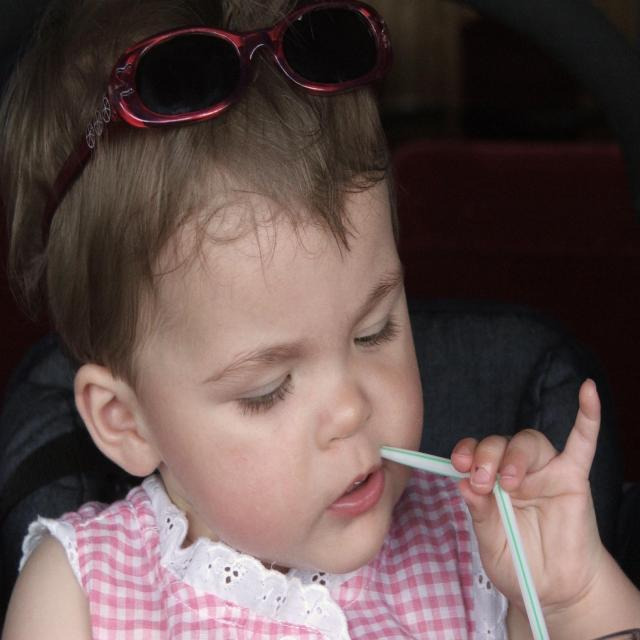no-glass: (231, 314, 392, 404)
